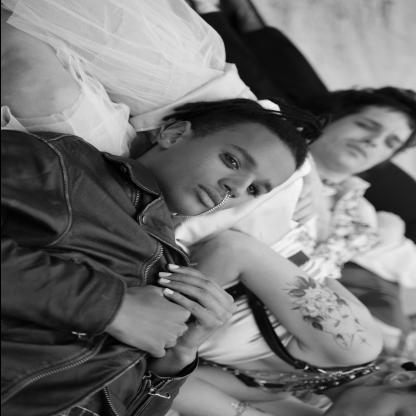Eye: (218, 148, 246, 172), (354, 116, 377, 134), (242, 180, 262, 200), (382, 134, 401, 152)
Mouth: (195, 182, 223, 210), (344, 140, 366, 162)
Nose: (216, 175, 249, 198), (362, 133, 384, 149)
